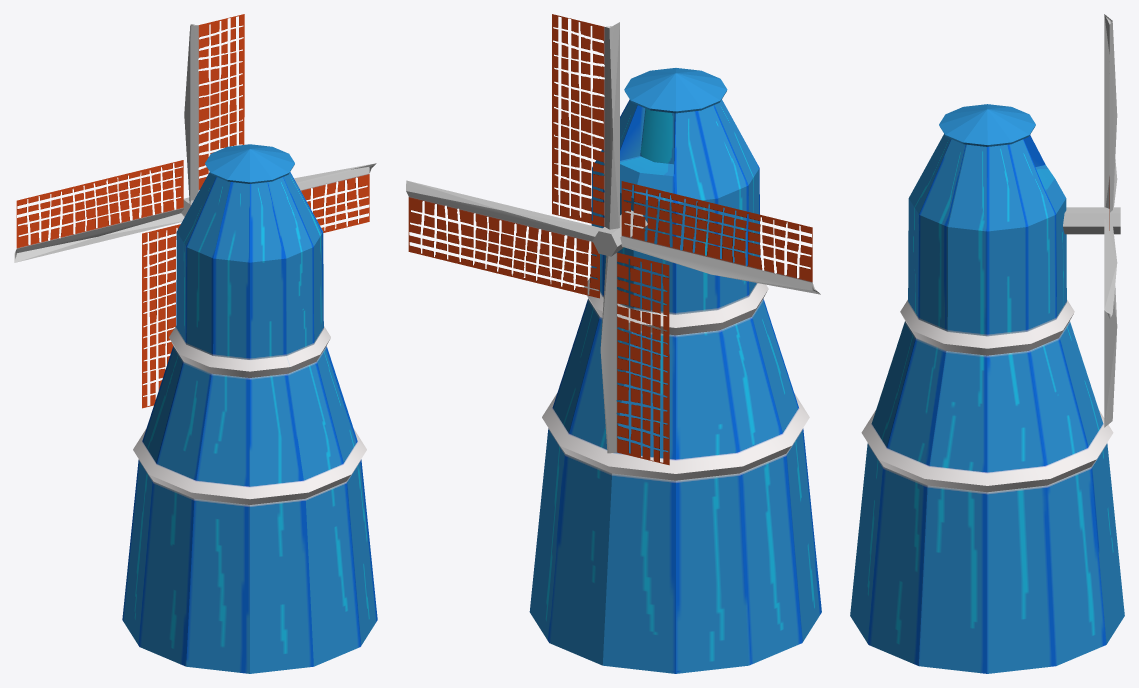
The model's file is Windmill LVL2.fbx.
3 views of the same model, side by side, from view 1: azimuth 30°, elevation 25°; view 2: azimuth 150°, elevation 25°; view 3: azimuth 270°, elevation 25° (orthographic). The views are drawn at different scales.
Parts seen in each view (by area): view 1: Windmill_LVL2_Body, Windmill_LVL2_Blades; view 2: Windmill_LVL2_Body, Windmill_LVL2_Blades; view 3: Windmill_LVL2_Body, Windmill_LVL2_Blades.
Part boxes in pixels (x1,y1,x2,y2): Windmill_LVL2_Body: (122,144,377,673); Windmill_LVL2_Blades: (14,14,376,408); Windmill_LVL2_Body: (529,68,821,673); Windmill_LVL2_Blades: (406,14,820,465); Windmill_LVL2_Body: (850,104,1124,673); Windmill_LVL2_Blades: (1063,14,1120,427).
Size of the model in its own units: 5.25 by 7.71 by 3.2.
Materials: 1 (1 with a texture image).
